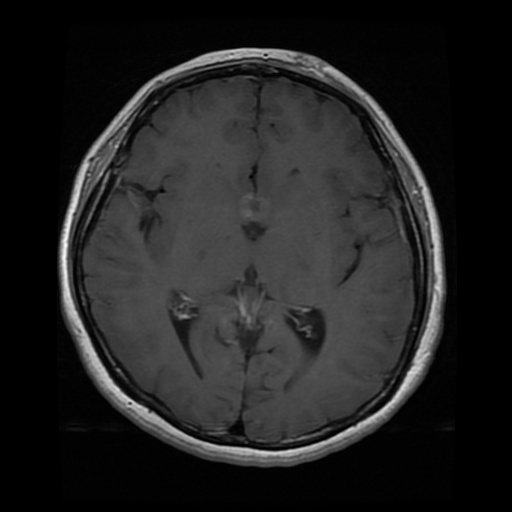pituitary: (239, 192, 271, 222)
